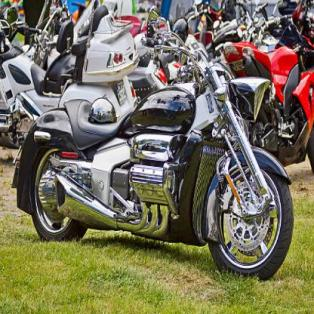Motocicleta: (29, 31, 294, 288)
